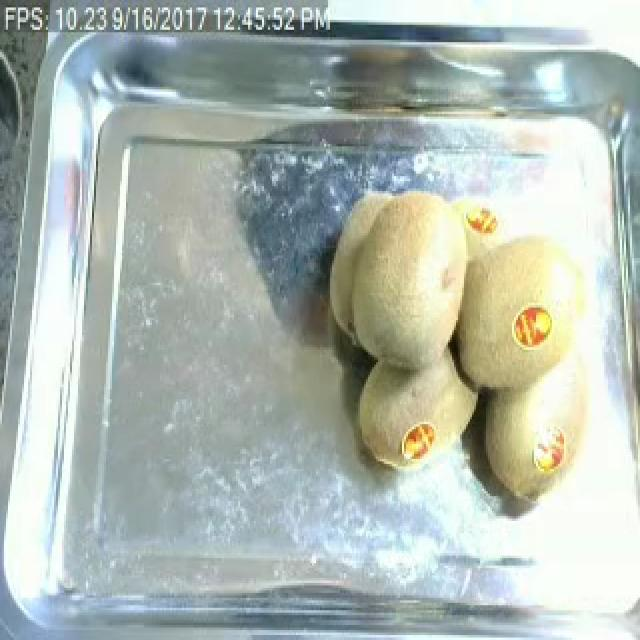Fruit: (318, 176, 480, 377), (462, 320, 628, 511), (506, 298, 564, 357)
